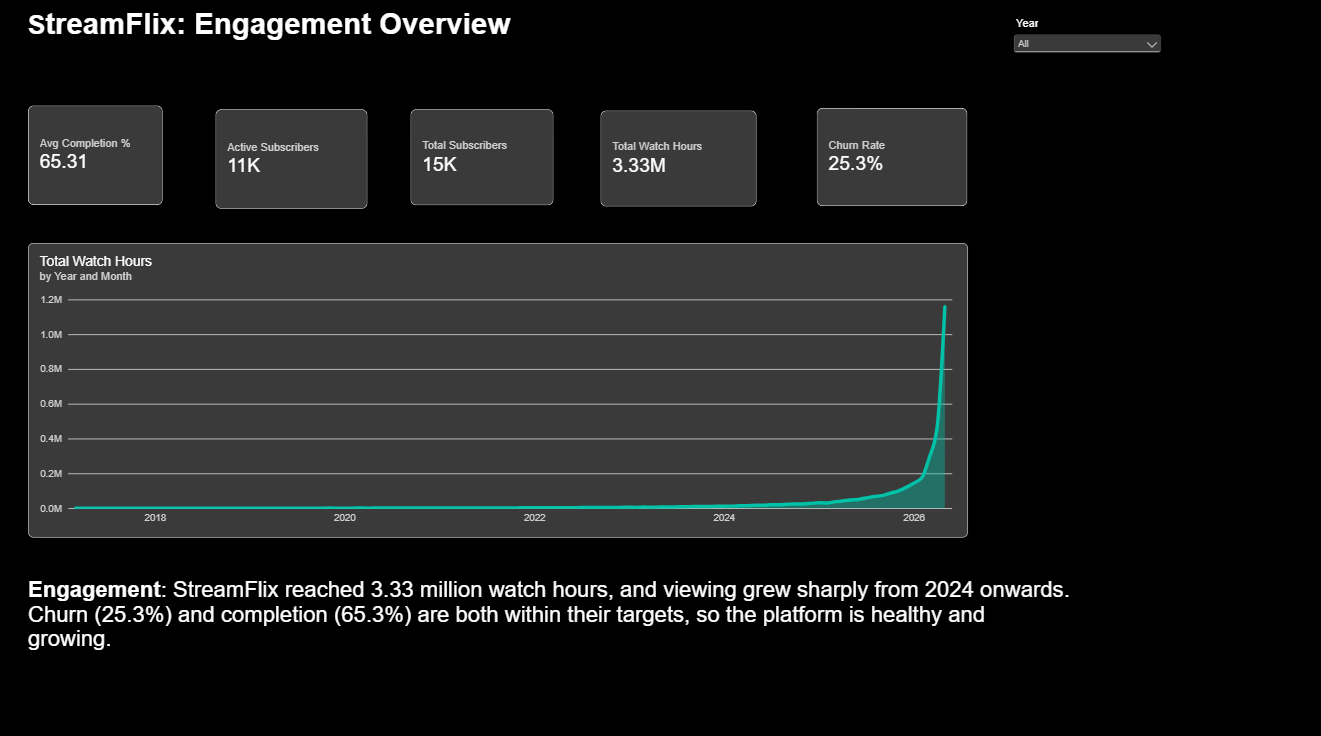

This screenshot's page, from the dashboard's own definition file:
{"tool":"powerbi","page":{"name":"Engagement","canvas":[1920,1080],"ordinal":0},"visuals":[{"type":"cardVisual","fields":{"Data":["clean_watch_history.Active Subscribers"]},"box":[314.9,160.5,220.2,144.1],"z":2},{"type":"cardVisual","fields":{"Data":["clean_watch_history.Churn Rate"]},"box":[1185.6,158.5,218.2,142],"z":3},{"type":"cardVisual","fields":{"Data":["clean_watch_history.Total Watch Hours"]},"box":[872.7,162.6,226.4,140],"z":5},{"type":"cardVisual","fields":{"Data":["clean_watch_history.Total Subscribers"]},"box":[596.9,160.5,207.9,140],"z":8},{"type":"cardVisual","fields":{"Data":["clean_watch_history.Avg Completion %"]},"box":[43.2,156.4,195.5,144.1],"z":9},{"type":"lineChart","fields":{"Category":["clean_watch_history.watch_date.Variation.Date Hierarchy.Year","clean_watch_history.watch_date.Variation.Date Hierarchy.Month"],"Y":["clean_watch_history.Total Watch Hours"]},"box":[43.2,354,1360.6,426.1],"z":10},{"type":"textbox","box":[1241.2,12.3,446.7,158.5],"z":12},{"type":"textbox","box":[1214.4,39.1,304.6,107],"z":13},{"type":"textbox","box":[1519,12,150,177],"z":15},{"type":"textbox","box":[43.2,12.3,1039.5,96.7],"z":18},{"type":"textbox","box":[1241.2,12.3,352,148.2],"z":19},{"type":"textbox","box":[43.2,837.7,1514.9,175],"z":20},{"type":"slicer","fields":{"Values":["clean_watch_history.watch_date.Variation.Date Hierarchy.Year"]},"box":[1465.5,26.8,222.3,82.3],"z":21}]}

Visuals, with their boxes in screenshot pixels (x1, y1, x2, y2), scaled from the page's 1920x1080 canvas onto the 1321x736 screenshot:
cardVisual - clean_watch_history.Active Subscribers: <bbox>217, 109, 368, 208</bbox>
cardVisual - clean_watch_history.Churn Rate: <bbox>816, 108, 966, 205</bbox>
cardVisual - clean_watch_history.Total Watch Hours: <bbox>600, 111, 756, 206</bbox>
cardVisual - clean_watch_history.Total Subscribers: <bbox>411, 109, 554, 205</bbox>
cardVisual - clean_watch_history.Avg Completion %: <bbox>30, 107, 164, 205</bbox>
lineChart - clean_watch_history.watch_date.Variation.Date Hierarchy.Year x clean_watch_history.watch_date.Variation.Date Hierarchy.Month: <bbox>30, 241, 966, 532</bbox>
textbox: <bbox>854, 8, 1161, 116</bbox>
textbox: <bbox>836, 27, 1045, 100</bbox>
textbox: <bbox>1045, 8, 1148, 129</bbox>
textbox: <bbox>30, 8, 745, 74</bbox>
textbox: <bbox>854, 8, 1096, 109</bbox>
textbox: <bbox>30, 571, 1072, 690</bbox>
slicer - clean_watch_history.watch_date.Variation.Date Hierarchy.Year: <bbox>1008, 18, 1161, 74</bbox>
